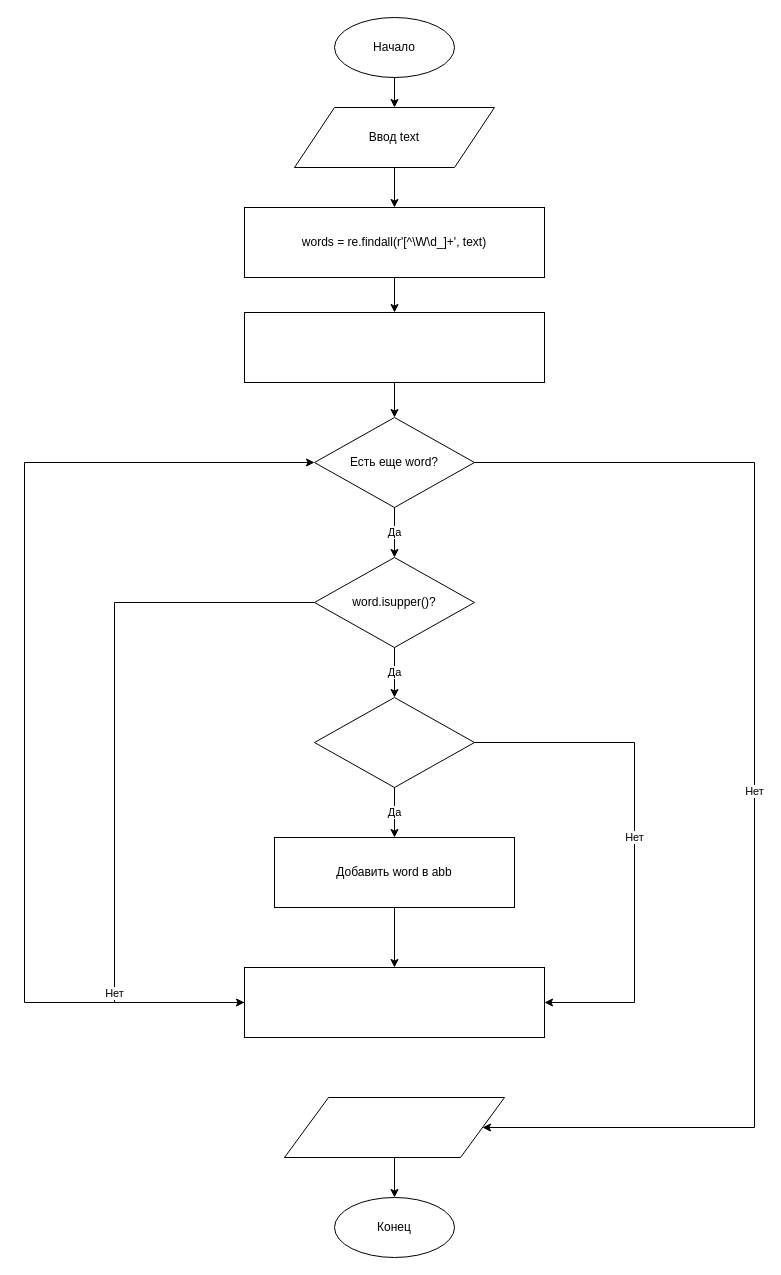
This 781x1275 diagram has some shape labels left out. The shapes that lost their labels are listed below. From the top down, each one's centre as x and y in pixels, then its label:
At pixel 394 347: "Создать abb = []; взять следующий word".
At pixel 394 742: "len(word) <= 6?".
At pixel 394 1002: "Взять следующий word".
At pixel 394 1127: "Вывод abb".
